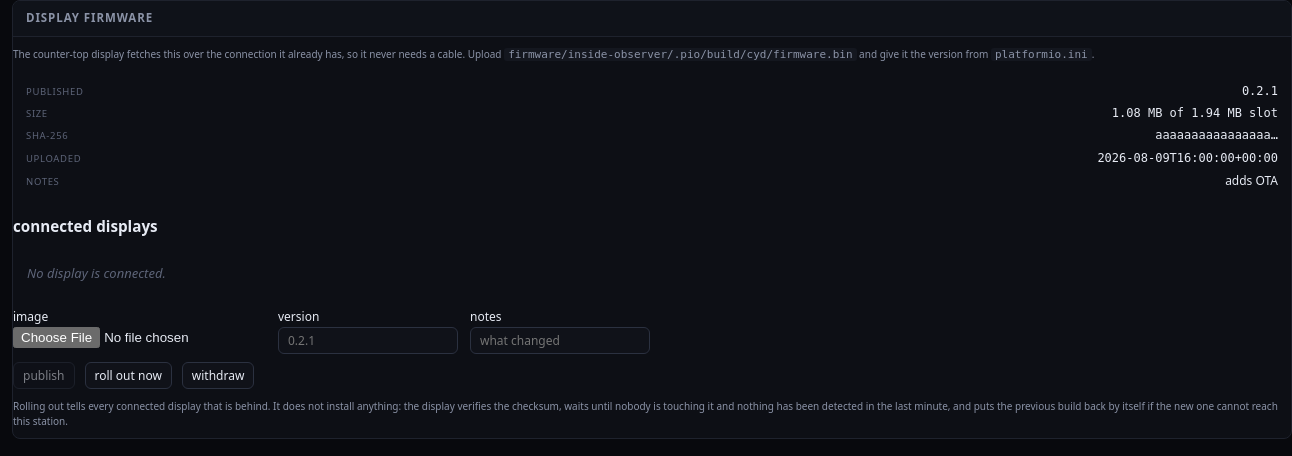
Scenario: FirmwarePanel › says so when no display needed the rollout
Step 1. Click the button "roll out now" → (128, 376), box [84,362,172,389]
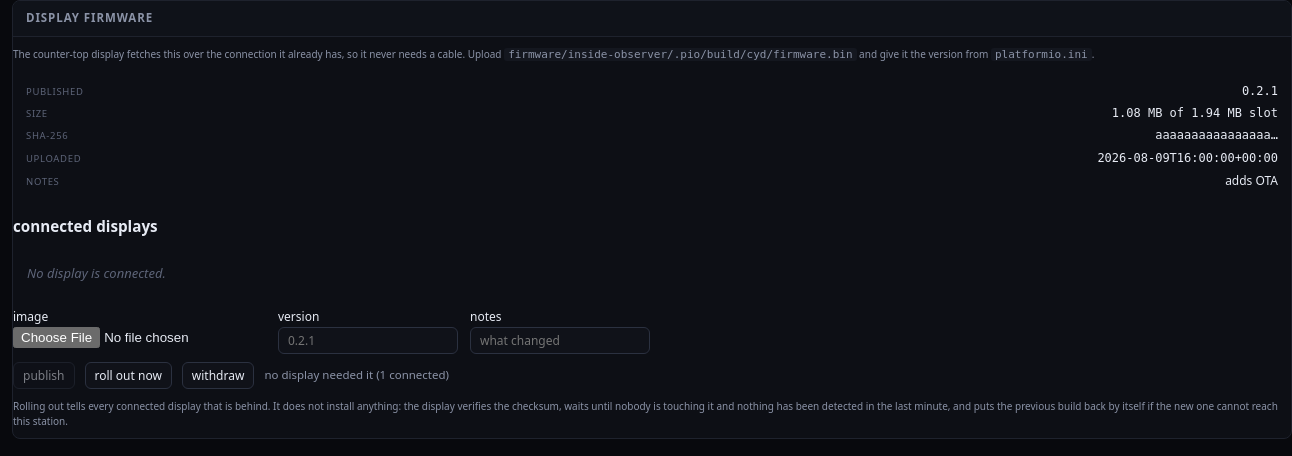
Check: the text "no display needed it (1 connected)" is shown, box [264,367,449,384]
